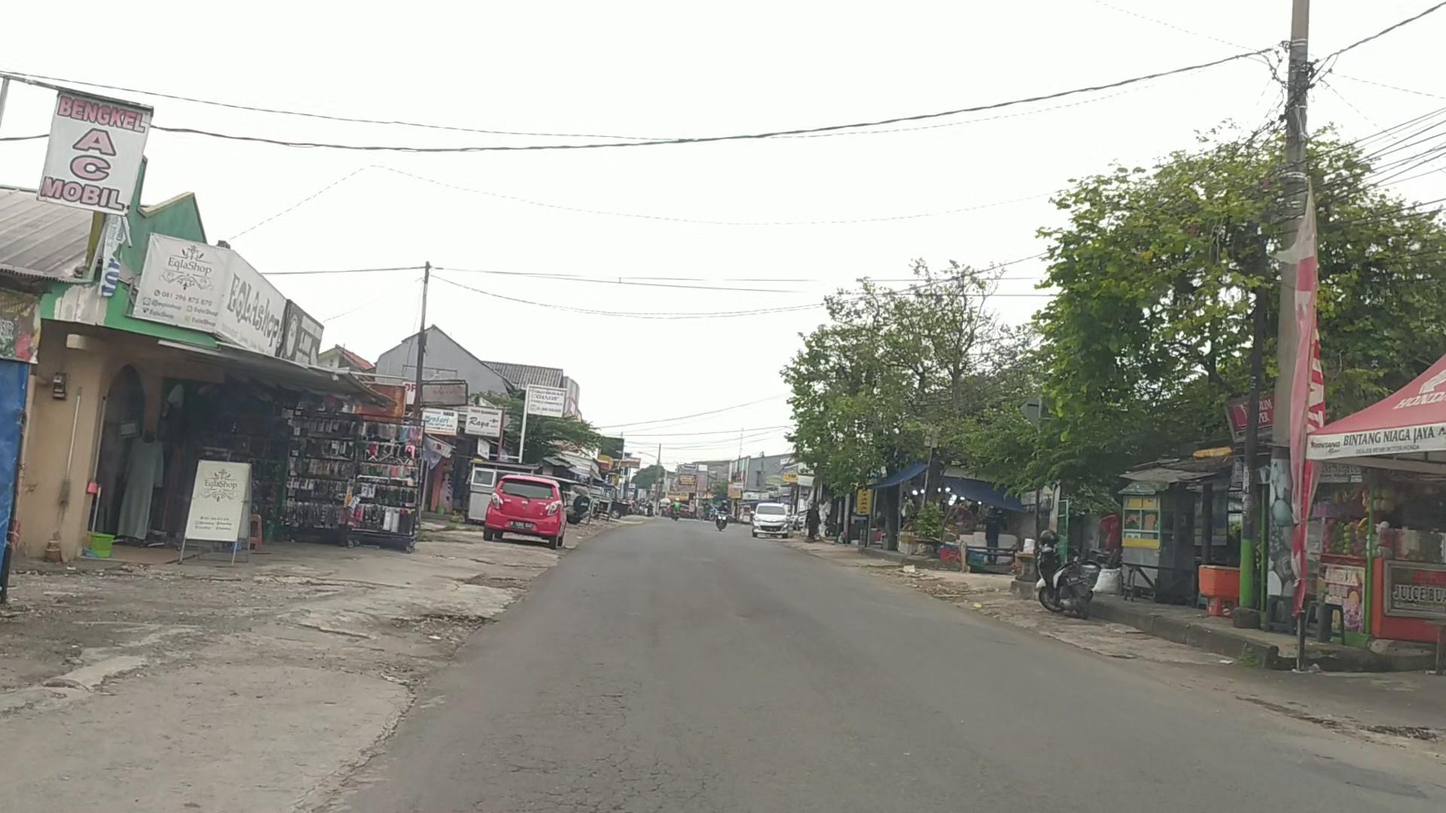pothole: (385, 610, 493, 658), (456, 572, 532, 593)
